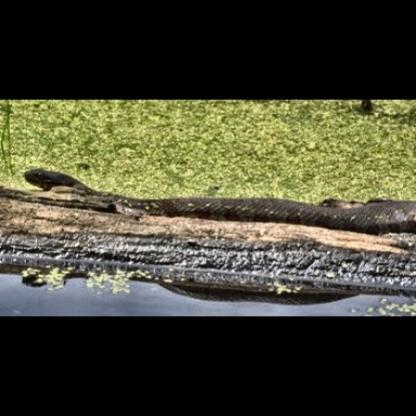Snake: (5, 94, 413, 236)
